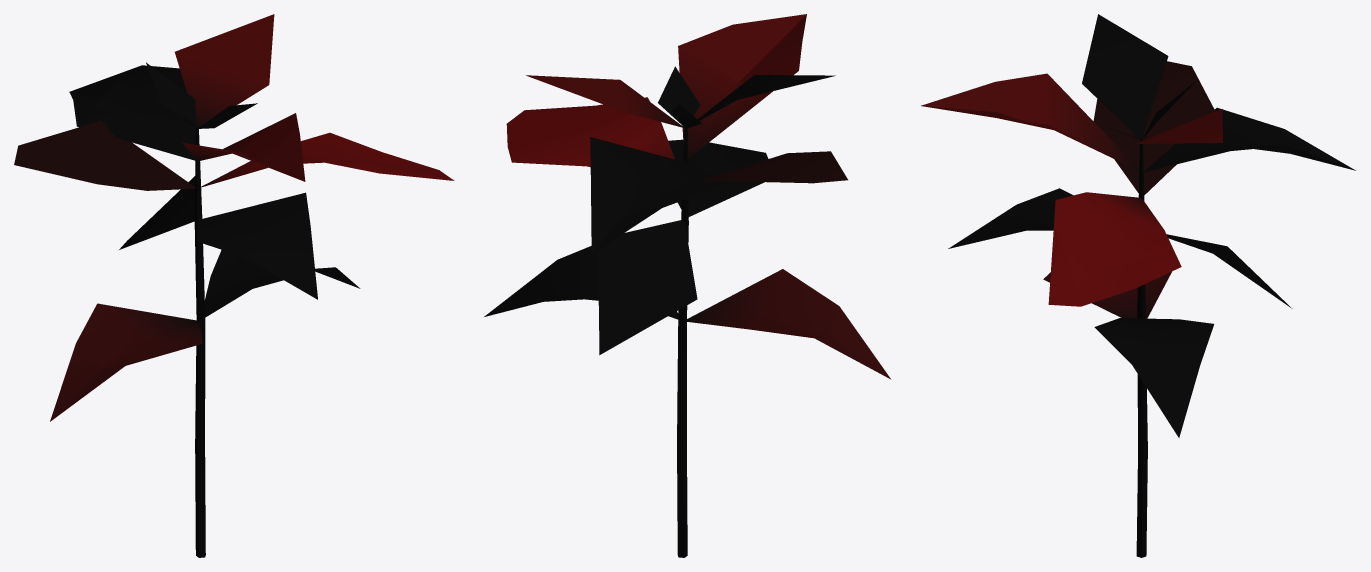
The model's file is Nettle A atlas highres.fbx.
3 views of the same model, side by side, from view 1: azimuth 30°, elevation 25°; view 2: azimuth 150°, elevation 25°; view 3: azimuth 270°, elevation 25° (orthographic). The views are drawn at different scales.
Visible parts, largest first — view 1: Polygon; view 2: Polygon; view 3: Polygon.
Part boxes in pixels (x1,y1,x2,y2): Polygon: [14, 14, 454, 557]; Polygon: [484, 14, 891, 557]; Polygon: [921, 14, 1355, 557].
Size of the model in its own units: 66.7 by 81.63 by 67.36.
